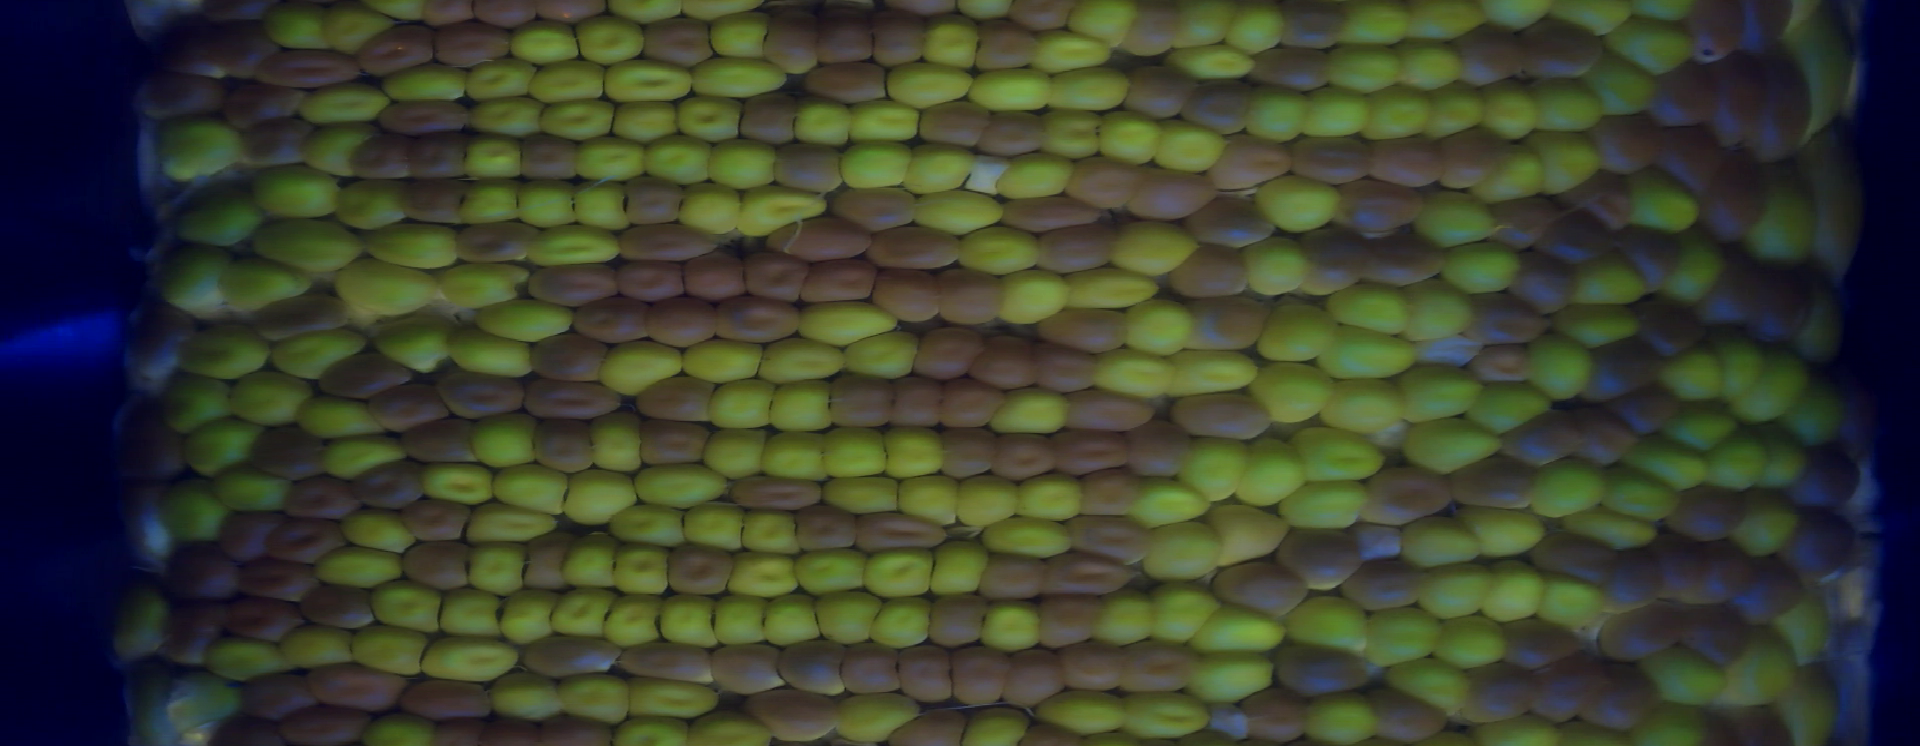fluorescent: (1795, 131, 1871, 278), (1791, 1, 1861, 156), (129, 664, 252, 746), (1736, 159, 1820, 269), (1724, 341, 1816, 428), (326, 252, 443, 320), (1282, 421, 1393, 492), (146, 110, 250, 186), (1247, 289, 1347, 365), (1308, 318, 1424, 383), (1657, 218, 1735, 314), (246, 213, 367, 274), (1240, 355, 1340, 430), (148, 241, 242, 320), (1277, 589, 1379, 661), (1179, 599, 1297, 661), (1725, 632, 1811, 717), (1611, 160, 1704, 236), (242, 157, 345, 225), (1772, 658, 1851, 746), (440, 322, 545, 388), (1198, 499, 1296, 570), (211, 252, 320, 316), (1100, 216, 1206, 281), (1387, 360, 1491, 426), (1384, 274, 1480, 345), (589, 332, 691, 399), (1168, 429, 1256, 505), (1397, 415, 1509, 475), (1249, 169, 1346, 238), (1354, 601, 1447, 673), (104, 576, 180, 663), (1593, 459, 1687, 529), (1526, 452, 1615, 526), (1518, 125, 1608, 198), (1138, 517, 1233, 586), (170, 322, 277, 383), (1640, 641, 1736, 708), (146, 472, 231, 548), (789, 295, 906, 350), (1558, 245, 1656, 311), (193, 628, 301, 688), (1142, 110, 1233, 181), (366, 311, 462, 379), (1314, 372, 1414, 436), (433, 255, 535, 317), (623, 459, 733, 517), (1578, 43, 1663, 118), (1380, 654, 1477, 719), (465, 294, 582, 348), (982, 381, 1080, 445), (1729, 480, 1804, 563), (553, 463, 644, 532), (219, 369, 318, 431), (1431, 236, 1531, 299), (732, 180, 838, 239), (287, 390, 392, 448), (1112, 687, 1221, 744), (1558, 499, 1667, 555), (1791, 261, 1849, 367), (152, 367, 241, 436), (1142, 575, 1224, 649), (167, 192, 264, 255), (1179, 643, 1277, 706), (1052, 263, 1173, 314), (262, 326, 370, 382), (175, 413, 262, 483), (1236, 432, 1311, 512), (831, 682, 928, 745), (1618, 431, 1714, 494), (413, 631, 527, 684), (1524, 570, 1616, 635), (356, 218, 462, 274), (1232, 232, 1314, 304), (1602, 13, 1700, 73), (486, 457, 574, 523), (1114, 294, 1202, 360), (1408, 185, 1501, 247), (1462, 376, 1559, 436), (1160, 344, 1265, 399), (1476, 552, 1551, 628), (1698, 424, 1776, 499), (306, 537, 413, 590), (876, 56, 980, 111), (1298, 684, 1390, 746), (1120, 472, 1216, 532), (1389, 510, 1484, 570), (1320, 274, 1416, 334), (1029, 681, 1130, 737), (684, 51, 792, 104), (905, 186, 1010, 240), (1523, 330, 1598, 405), (1408, 556, 1495, 621), (1783, 365, 1848, 452), (1521, 72, 1608, 137), (989, 265, 1078, 328), (749, 332, 853, 386), (895, 138, 984, 201), (1427, 610, 1516, 673), (364, 573, 449, 638), (1702, 323, 1772, 403), (1460, 502, 1550, 563), (618, 671, 726, 723), (1084, 343, 1176, 403), (1089, 104, 1172, 170), (1276, 477, 1378, 530), (950, 223, 1049, 278), (1469, 138, 1551, 205), (753, 426, 836, 491), (804, 586, 888, 650), (484, 664, 572, 725), (340, 619, 429, 680), (598, 54, 699, 107), (636, 127, 718, 192), (790, 543, 877, 604), (520, 54, 615, 110), (296, 116, 380, 180), (676, 333, 768, 391), (312, 428, 410, 481), (1046, 60, 1135, 119), (1653, 399, 1742, 458), (552, 668, 638, 729), (1544, 299, 1643, 352), (519, 222, 626, 271), (501, 11, 588, 71), (318, 1, 403, 62), (567, 9, 651, 70), (1357, 82, 1441, 143), (1237, 80, 1316, 145), (328, 170, 409, 234), (961, 62, 1057, 116), (975, 513, 1079, 562), (1296, 81, 1379, 142), (271, 617, 365, 671), (702, 132, 781, 196), (765, 375, 842, 440), (1082, 586, 1160, 650), (413, 454, 500, 512), (1322, 38, 1409, 96), (463, 410, 541, 474), (1329, 1, 1423, 54), (921, 533, 993, 601), (1774, 590, 1836, 671), (756, 589, 830, 655), (651, 586, 726, 652), (989, 148, 1079, 203), (702, 372, 779, 436), (838, 327, 924, 383), (855, 544, 938, 603), (814, 469, 905, 523), (673, 174, 746, 241), (204, 462, 293, 517), (1651, 342, 1724, 408), (598, 501, 692, 552), (291, 78, 396, 125), (1024, 21, 1116, 73), (889, 467, 965, 530), (1033, 102, 1109, 165), (531, 94, 621, 148), (1622, 692, 1712, 746), (1390, 33, 1468, 94), (376, 56, 471, 107), (256, 1, 339, 59), (457, 50, 544, 105), (456, 502, 561, 548), (834, 136, 918, 192), (816, 423, 891, 485), (431, 583, 508, 644), (333, 505, 422, 557), (1471, 73, 1540, 141), (1750, 426, 1815, 499), (1419, 78, 1491, 143), (458, 537, 531, 600), (721, 548, 806, 603), (1007, 469, 1089, 526), (678, 495, 752, 557), (874, 420, 948, 483), (1163, 39, 1261, 86), (735, 503, 811, 563), (861, 593, 937, 653), (1402, 1, 1493, 51), (457, 129, 535, 186), (700, 5, 774, 66), (698, 423, 774, 481), (971, 597, 1047, 655), (605, 96, 686, 151), (917, 9, 984, 75), (787, 89, 856, 154), (462, 94, 550, 145), (1221, 1, 1294, 61), (568, 134, 651, 186), (553, 530, 620, 597), (545, 583, 615, 646), (703, 587, 770, 650), (841, 96, 924, 147), (605, 537, 673, 599), (512, 175, 580, 236), (564, 176, 636, 235), (670, 93, 748, 146), (598, 589, 665, 650), (452, 175, 527, 230), (950, 472, 1025, 527), (680, 706, 778, 746), (951, 699, 1033, 746), (1067, 1, 1142, 51), (587, 408, 642, 477), (1471, 706, 1562, 746), (1169, 1, 1240, 51), (1542, 1, 1636, 38), (493, 586, 553, 643), (356, 706, 440, 746), (602, 712, 696, 746), (1468, 1, 1550, 36)
nonfluorescent: (1746, 43, 1817, 165), (1696, 141, 1774, 249), (1507, 12, 1611, 89), (1722, 548, 1815, 633), (1267, 638, 1381, 706), (118, 293, 204, 381), (1776, 503, 1864, 590), (1587, 599, 1696, 669), (1352, 461, 1464, 528), (1209, 552, 1315, 624), (1524, 524, 1630, 595), (759, 208, 883, 268), (1573, 654, 1667, 734), (107, 392, 189, 481), (1517, 647, 1607, 729), (1051, 381, 1172, 441), (1658, 479, 1758, 550), (1577, 332, 1667, 412), (1665, 598, 1760, 673), (298, 657, 409, 719), (1455, 284, 1553, 355), (1451, 657, 1545, 730), (1491, 610, 1594, 677), (1284, 223, 1373, 301), (1495, 405, 1593, 475), (612, 635, 724, 696), (157, 534, 249, 608), (1647, 118, 1730, 198), (1442, 16, 1528, 94), (1600, 212, 1687, 289), (1330, 173, 1429, 240), (1106, 635, 1209, 699), (1701, 50, 1767, 151), (1678, 532, 1760, 612), (1641, 59, 1724, 138), (514, 372, 634, 428), (1693, 246, 1768, 334), (738, 680, 838, 746), (1787, 435, 1866, 517), (1331, 556, 1438, 617), (1349, 229, 1453, 292), (1272, 523, 1365, 593), (1179, 290, 1273, 359), (1824, 356, 1884, 464), (1120, 162, 1223, 224), (513, 628, 627, 685), (342, 451, 433, 521), (1168, 386, 1277, 445), (1444, 451, 1540, 517), (1360, 680, 1457, 746), (1200, 127, 1296, 194), (1182, 194, 1282, 256), (1745, 260, 1813, 350), (154, 597, 239, 670), (940, 639, 1020, 717), (392, 671, 501, 728), (1633, 523, 1708, 605), (1430, 122, 1516, 194), (1589, 541, 1675, 612), (249, 290, 356, 347), (923, 262, 1011, 331), (111, 481, 180, 570), (1284, 126, 1379, 190), (202, 13, 288, 83), (708, 290, 807, 350), (847, 505, 958, 559), (247, 420, 336, 488), (1629, 292, 1709, 365), (1042, 424, 1142, 483), (863, 260, 949, 328), (1113, 413, 1199, 481), (359, 379, 457, 439), (860, 223, 969, 277), (1032, 545, 1136, 601), (700, 638, 796, 699), (1360, 130, 1452, 194), (1060, 508, 1160, 567), (231, 552, 328, 612), (427, 369, 533, 424), (1031, 303, 1134, 359), (989, 646, 1075, 713), (1504, 244, 1582, 317), (313, 349, 418, 404), (249, 45, 369, 93), (610, 218, 724, 268), (214, 78, 317, 134), (909, 321, 994, 387), (658, 537, 743, 603), (350, 16, 437, 81), (624, 414, 718, 474), (817, 367, 902, 432), (1231, 677, 1311, 746), (1029, 219, 1120, 279), (392, 412, 487, 469), (257, 514, 353, 572), (770, 633, 851, 701), (1164, 240, 1251, 303), (421, 15, 516, 72), (1176, 73, 1259, 138), (365, 94, 478, 142), (291, 579, 384, 637), (800, 56, 899, 110), (992, 191, 1103, 239), (1588, 105, 1662, 178), (1678, 1, 1752, 72), (1026, 588, 1109, 652), (149, 12, 227, 81), (1060, 156, 1149, 216), (1562, 403, 1640, 472), (216, 590, 311, 646), (230, 111, 316, 173), (396, 532, 476, 597), (1482, 189, 1564, 252), (828, 183, 924, 236), (1242, 42, 1335, 97), (230, 666, 323, 722), (1565, 167, 1638, 236), (733, 246, 816, 309), (969, 11, 1044, 78), (924, 589, 1000, 657), (633, 367, 718, 428), (965, 330, 1044, 393), (891, 638, 962, 709), (639, 293, 725, 352), (1052, 636, 1138, 695), (564, 289, 654, 345), (790, 256, 883, 310), (613, 167, 691, 232), (523, 262, 624, 311), (759, 4, 825, 78), (1120, 66, 1206, 124), (673, 250, 756, 310), (1067, 463, 1149, 523), (969, 104, 1053, 162), (393, 171, 478, 229), (910, 98, 998, 153), (269, 698, 371, 746), (209, 506, 291, 565), (133, 72, 229, 122), (808, 2, 880, 69), (835, 636, 907, 702), (527, 413, 601, 477), (1269, 1, 1357, 55), (982, 428, 1063, 486), (768, 136, 845, 197), (932, 372, 1011, 431), (393, 492, 478, 548), (1602, 382, 1682, 440), (1019, 339, 1101, 396), (867, 4, 934, 72), (524, 332, 613, 383), (733, 89, 808, 151), (519, 524, 580, 599), (787, 499, 863, 559), (448, 216, 539, 266), (934, 423, 1004, 486), (1117, 1, 1189, 62), (509, 127, 582, 189), (636, 16, 718, 70), (1461, 334, 1539, 391), (721, 472, 824, 514), (607, 255, 693, 305), (399, 129, 474, 186), (880, 367, 947, 432), (276, 472, 361, 521), (973, 551, 1056, 601), (1730, 1, 1802, 58), (340, 130, 415, 184), (1717, 699, 1800, 746), (876, 706, 969, 746), (1344, 518, 1408, 568), (529, 1, 620, 29), (464, 1, 541, 34), (416, 1, 482, 37)
